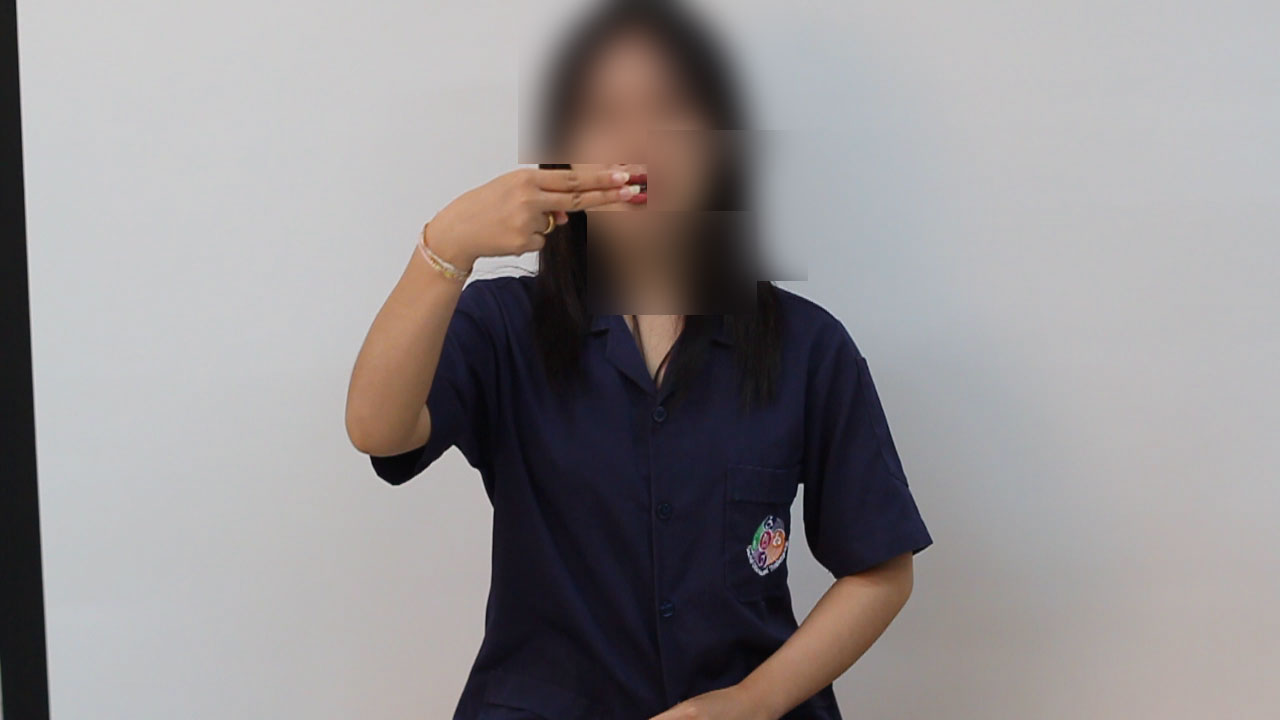hor: (413, 163, 644, 281)
